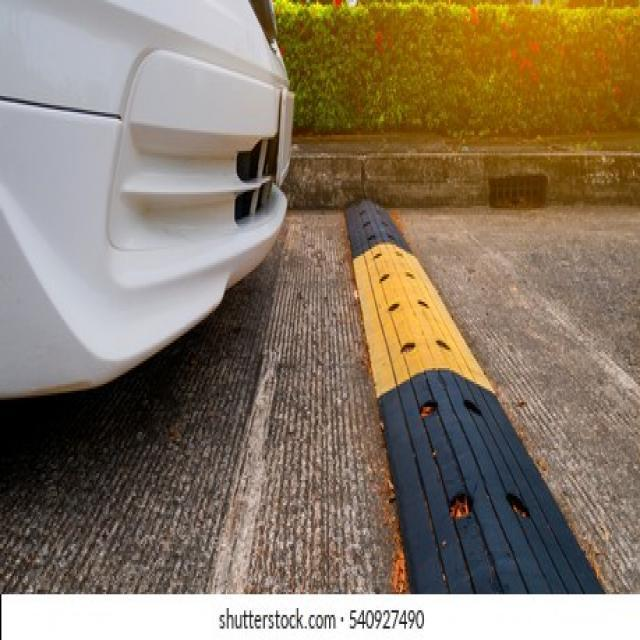Marked Bump: (315, 198, 593, 594)
